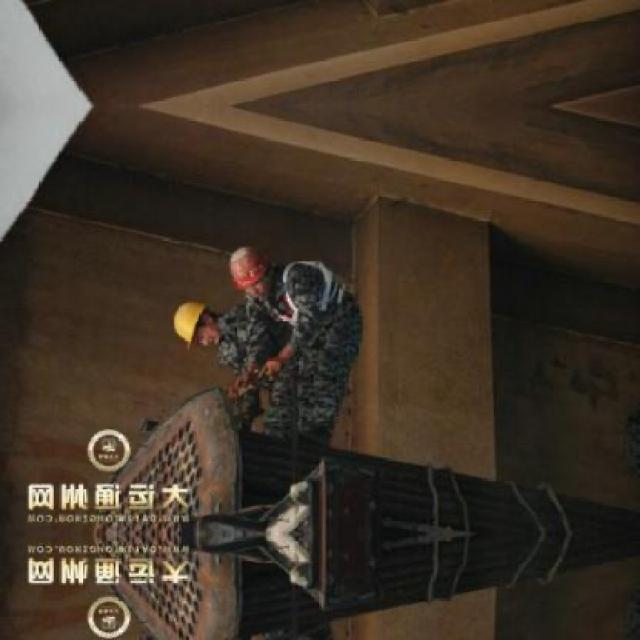helmet: (173, 298, 224, 354), (228, 243, 275, 297)
